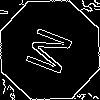M: (25, 25, 83, 80)
